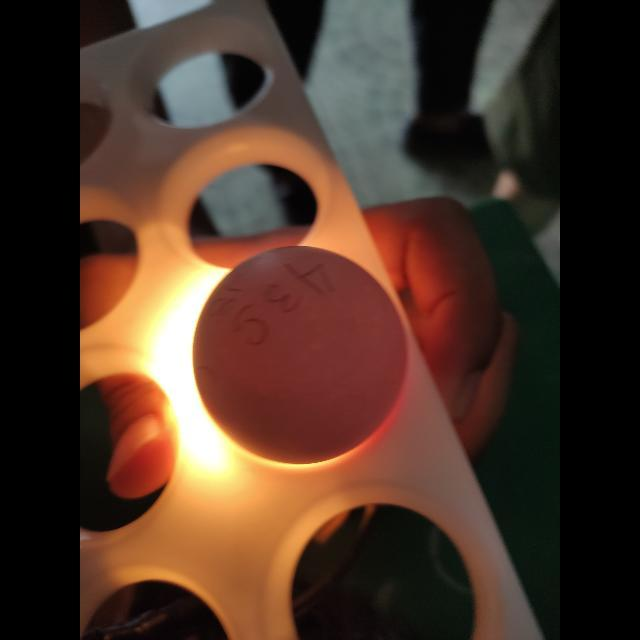Fertile: (190, 242, 410, 464)
